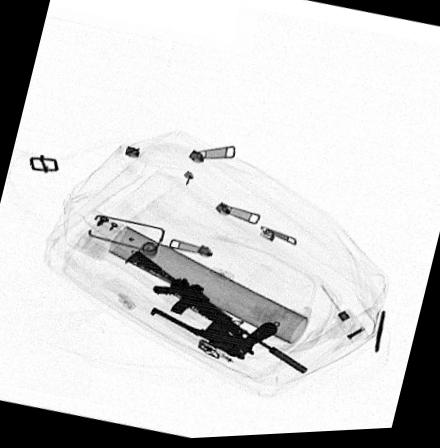Gun: (124, 249, 309, 379), (148, 307, 277, 361)
